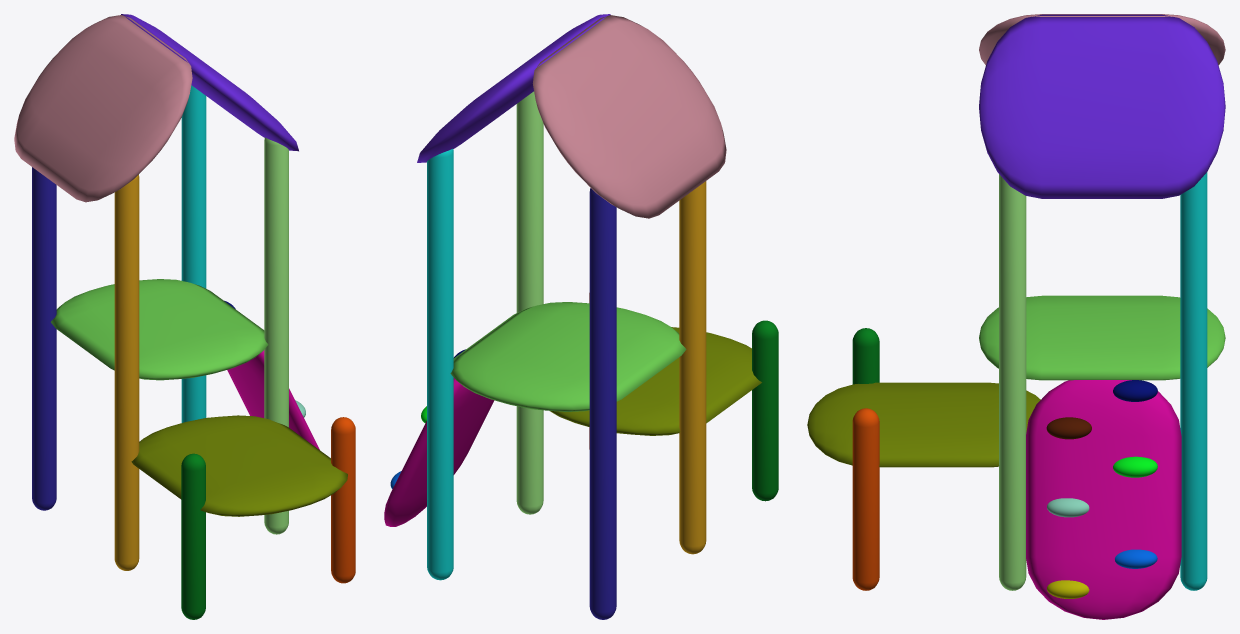
The model's file is Jungle_Gym 1.fbx.
The picture shows the model from 3 angles, left to right: view 1: azimuth 30°, elevation 25°; view 2: azimuth 150°, elevation 25°; view 3: azimuth 270°, elevation 25°; orthographic projection. The views are drawn at different scales.
Parts seen in each view (by area): view 1: Capsule038; view 2: Capsule038; view 3: Capsule038.
Part boxes in pixels (x1,y1,x2,y2): Capsule038: (14, 14, 355, 619); Capsule038: (384, 14, 778, 619); Capsule038: (807, 14, 1225, 619).
Bounding box in the file's own units: 122 × 214 × 152.
